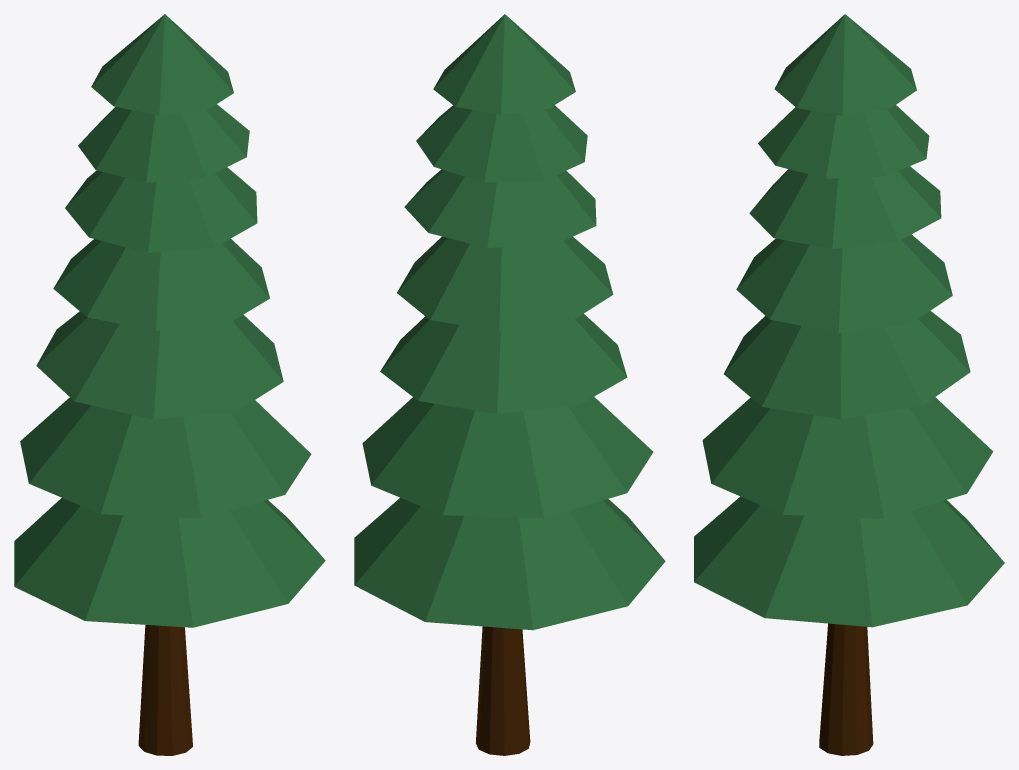
The model's file is spruce_sapling_variant2.fbx.
The picture shows the model from 3 angles, left to right: view 1: azimuth 30°, elevation 25°; view 2: azimuth 150°, elevation 25°; view 3: azimuth 270°, elevation 25°; orthographic projection.
Visible parts, largest first — view 1: Cone.008, Cone.009, Cone.010, Cone.001, Cone.011, Cone.012, Cone.013, Cylinder.001; view 2: Cone.008, Cone.009, Cone.010, Cone.001, Cone.011, Cone.012, Cone.013, Cylinder.001; view 3: Cone.008, Cone.009, Cone.010, Cone.001, Cone.011, Cone.012, Cone.013, Cylinder.001.
Part boxes in pixels (left/top/right/bottom): Cone.008: left=14, top=498, right=325, bottom=627; Cone.009: left=20, top=397, right=311, bottom=518; Cone.010: left=36, top=311, right=283, bottom=419; Cone.001: left=53, top=238, right=269, bottom=330; Cone.011: left=65, top=167, right=257, bottom=252; Cone.012: left=78, top=104, right=249, bottom=182; Cone.013: left=91, top=14, right=233, bottom=115; Cylinder.001: left=138, top=625, right=192, bottom=755; Cone.008: left=354, top=497, right=665, bottom=630; Cone.009: left=362, top=397, right=653, bottom=518; Cone.010: left=380, top=313, right=627, bottom=413; Cone.001: left=397, top=236, right=613, bottom=331; Cone.011: left=404, top=169, right=596, bottom=247; Cone.012: left=416, top=105, right=587, bottom=182; Cone.013: left=433, top=14, right=575, bottom=114; Cylinder.001: left=476, top=626, right=530, bottom=755; Cone.008: left=694, top=496, right=1004, bottom=627; Cone.009: left=702, top=397, right=993, bottom=518; Cone.010: left=724, top=311, right=970, bottom=419; Cone.001: left=736, top=234, right=952, bottom=332; Cone.011: left=749, top=166, right=941, bottom=248; Cone.012: left=758, top=105, right=929, bottom=178; Cone.013: left=774, top=14, right=916, bottom=115; Cylinder.001: left=819, top=623, right=873, bottom=755.
Bounding box in the file's own units: 169 × 432 × 167.
